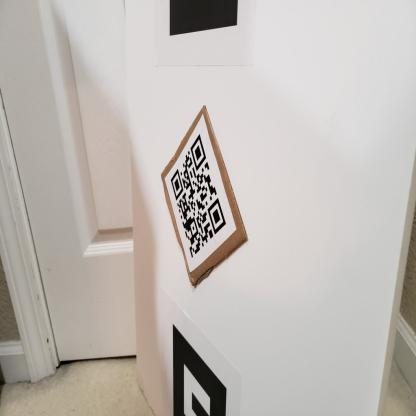qr: (166, 130, 235, 261)
